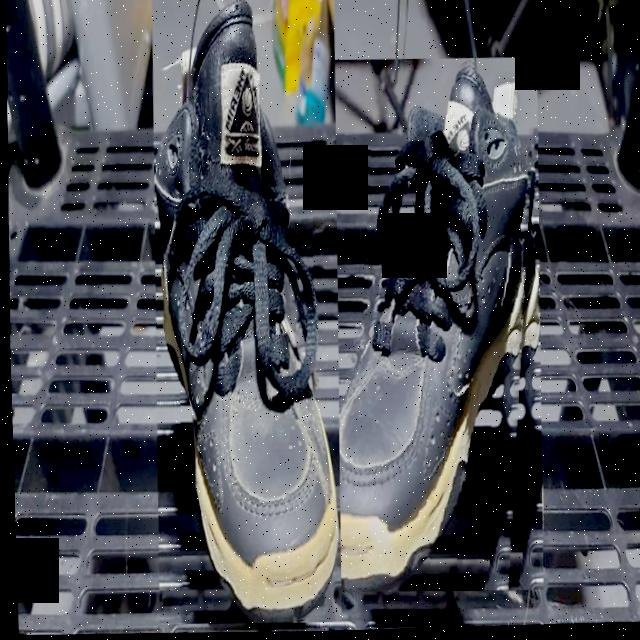shoe: (141, 0, 348, 628), (325, 57, 549, 597)
